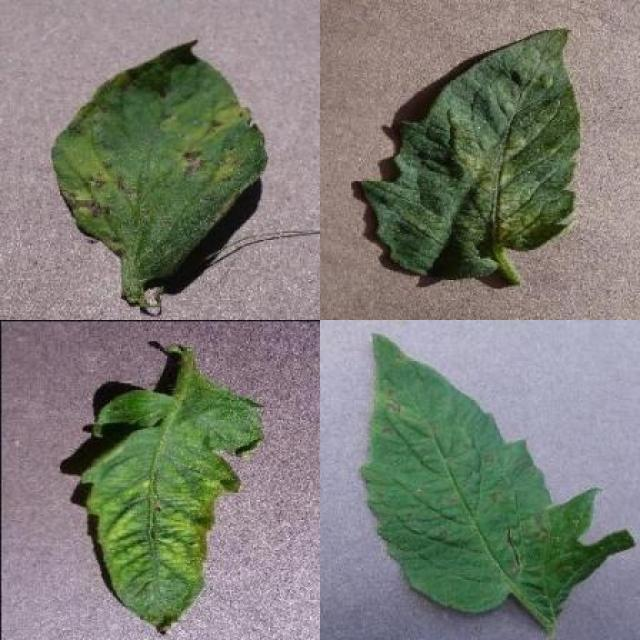Mosaic Virus: (78, 370, 268, 636)
Septoria: (362, 330, 635, 613), (55, 39, 268, 277)
Spider Mites: (358, 28, 582, 281)
